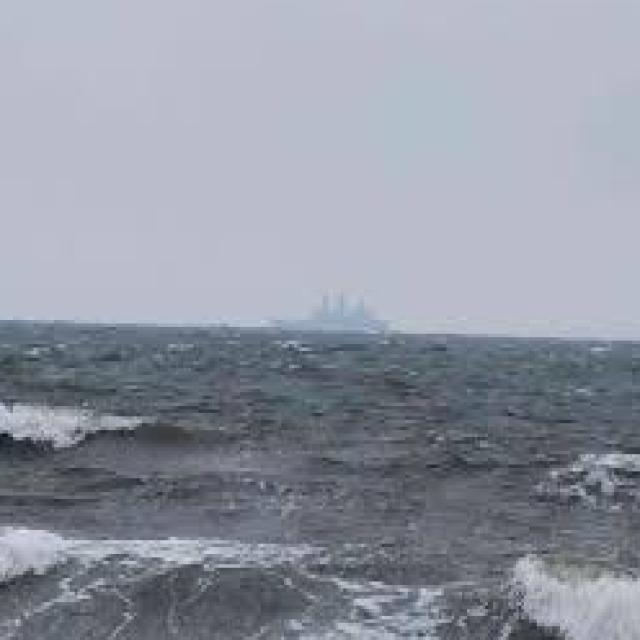fishing boat: (288, 273, 382, 347)
